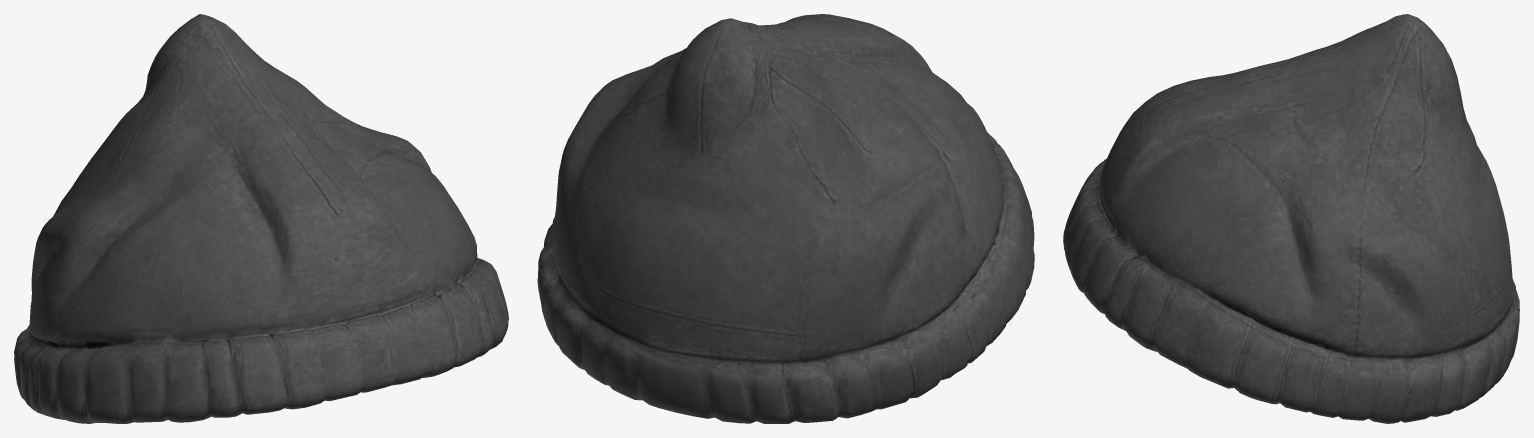
Rendered from Beanie.glb.
3 views of the same model, side by side, from view 1: azimuth 30°, elevation 25°; view 2: azimuth 150°, elevation 25°; view 3: azimuth 270°, elevation 25° (orthographic). The views are drawn at different scales.
Visible parts, largest first — view 1: Beanie; view 2: Beanie; view 3: Beanie.
Part boxes in pixels (<box>): Beanie: <box>14,14,508,423</box>; Beanie: <box>537,14,1034,423</box>; Beanie: <box>1063,14,1519,423</box>.
Bounding box in the file's own units: 0.3848 × 0.3046 × 0.3688.
1 material, 1 textured.
